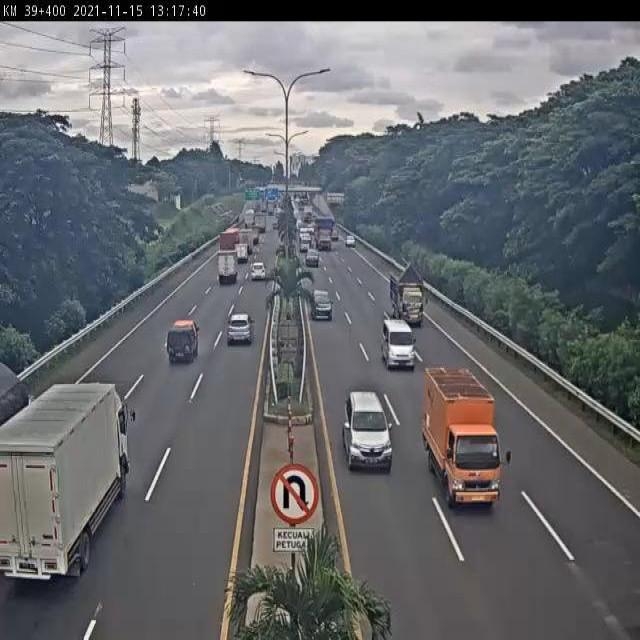car: (344, 390, 395, 470), (382, 316, 416, 369), (226, 312, 254, 345), (310, 288, 333, 321)
truck-l-: (1, 379, 134, 585)
truck-m-: (425, 368, 509, 504), (390, 261, 425, 327)
truck-s-: (166, 317, 201, 367)
